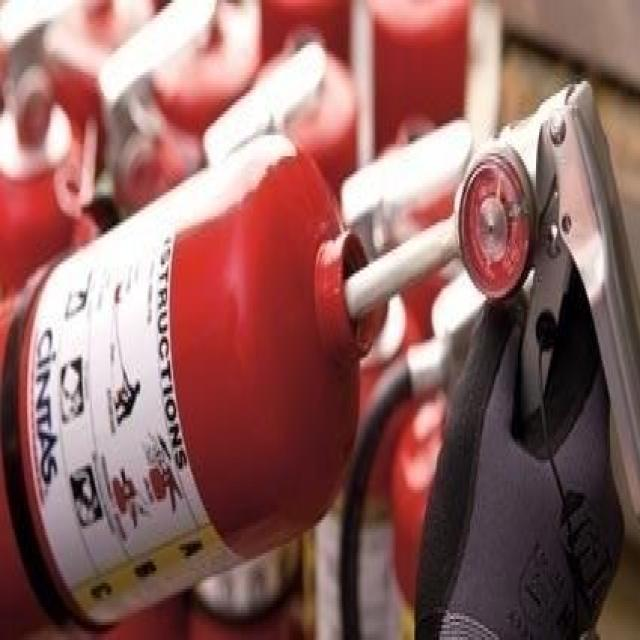fire_extinguisher: (0, 69, 637, 637)
